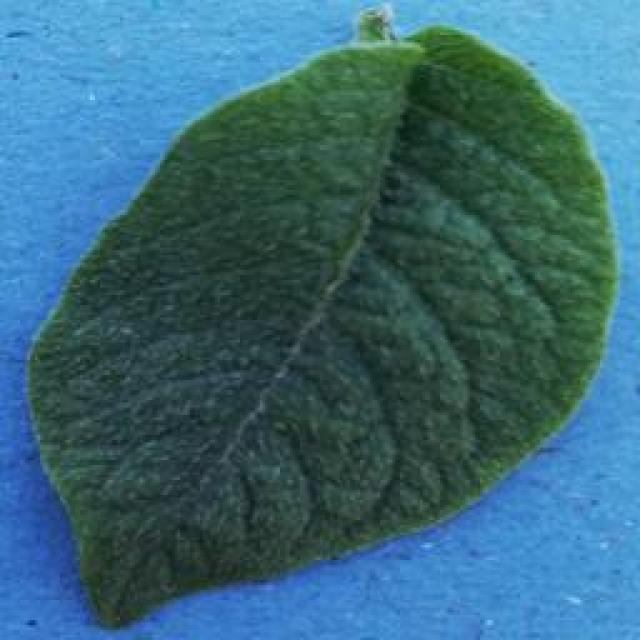Potato_Healthy: (28, 11, 611, 627)
